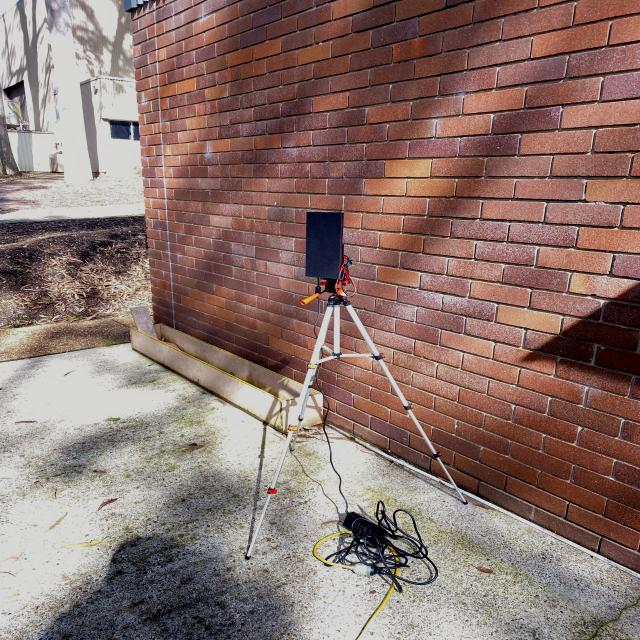matrix: (295, 202, 357, 286)
